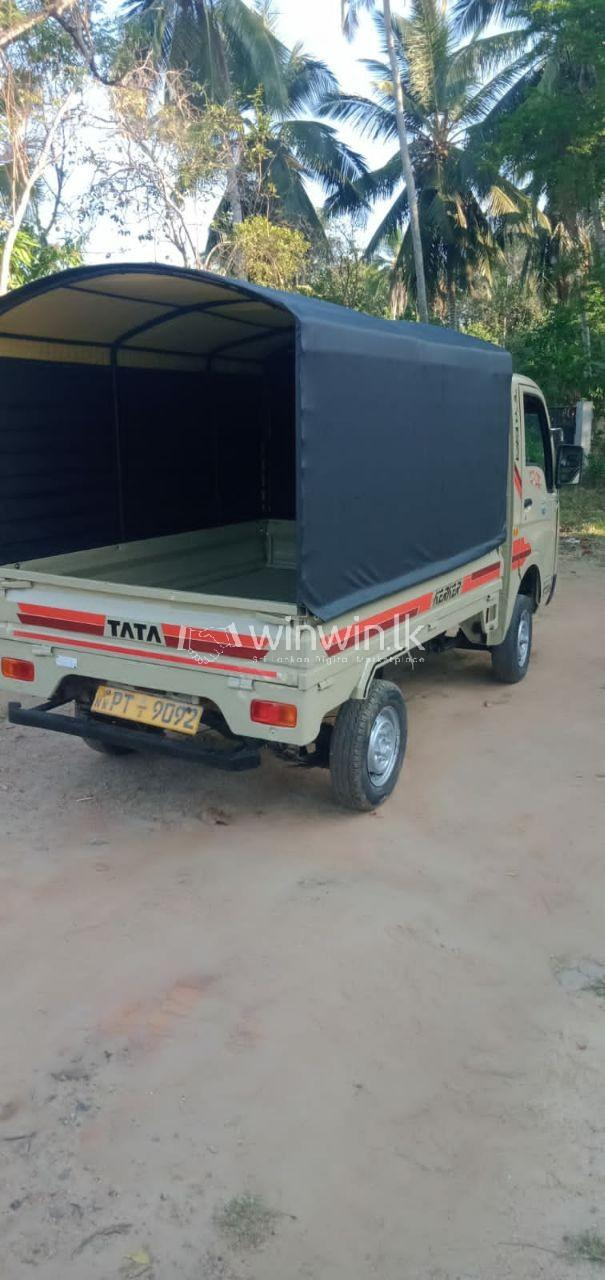truck: (2, 263, 581, 812)
